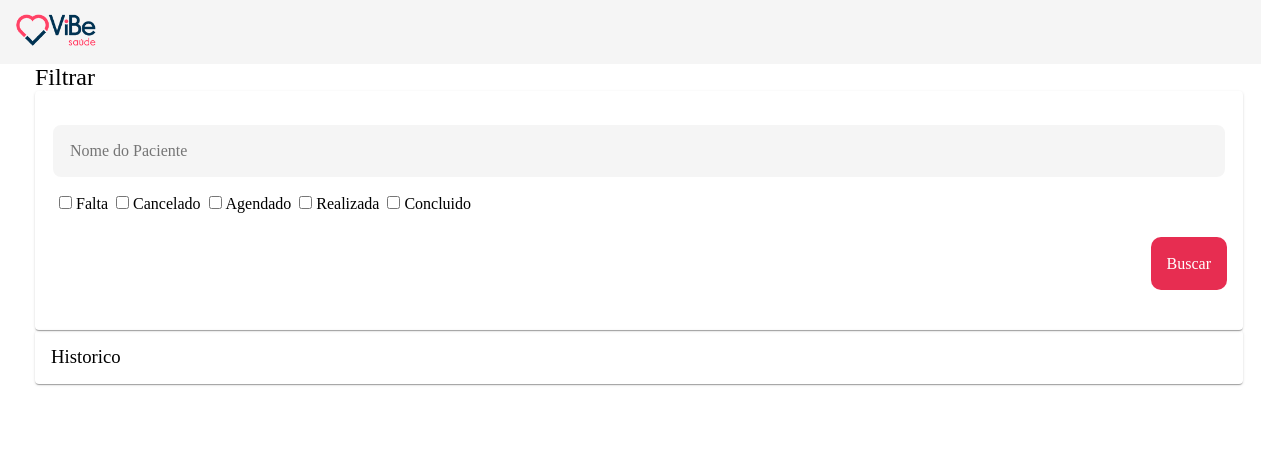
Test case: Doctor Appointment › should appear. the link did not attend
The width and height of the screenshot is (1261, 467).
Click the button "Buscar": (1189, 264) [1151, 237, 1227, 290]
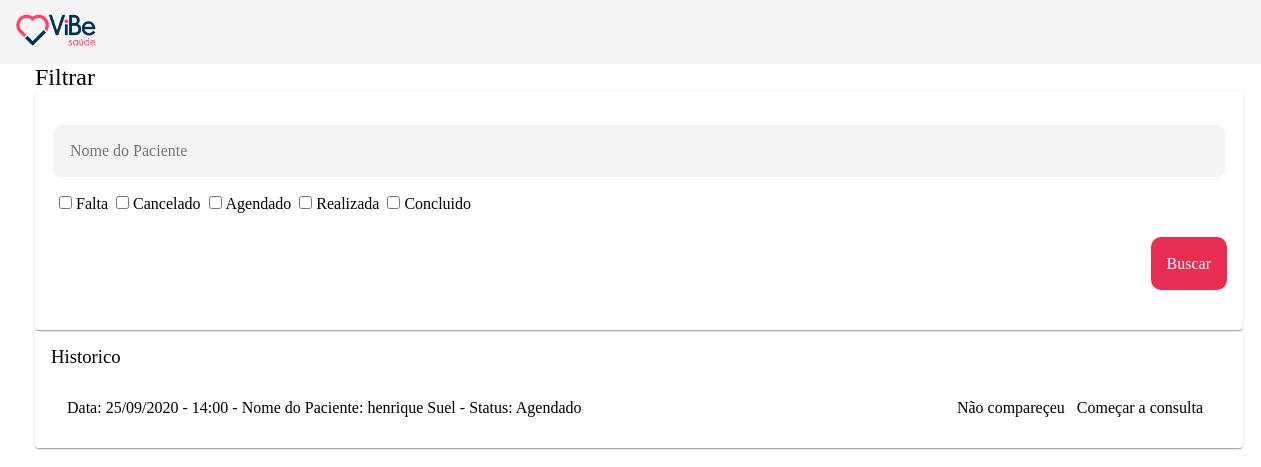
Check: the link "Não compareçeu" is shown, box [957, 399, 1065, 416]
